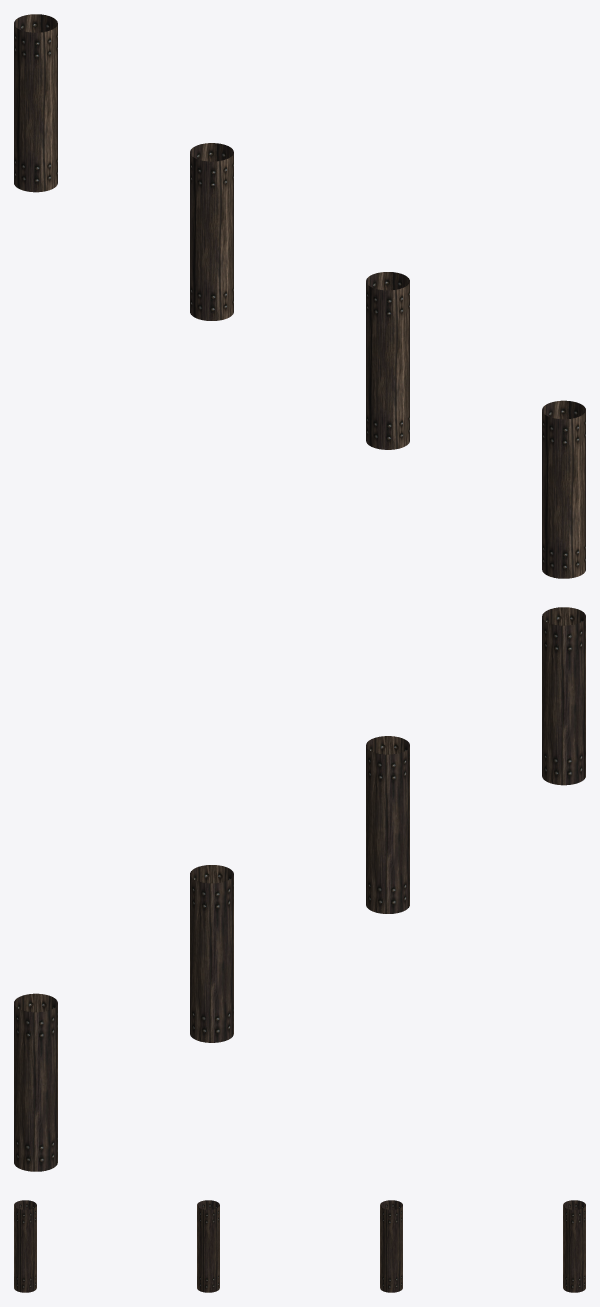
The model's file is Pillars.obj.
3 renders of one model, top to bottom at view 1: azimuth 30°, elevation 25°; view 2: azimuth 150°, elevation 25°; view 3: azimuth 270°, elevation 25°, orthographic. The views are drawn at different scales.
Parts seen in each view (by area): view 1: Cylinder.003; view 2: Cylinder.003; view 3: Cylinder.003.
Part boxes in pixels (x1=…): Cylinder.003: x1=14, y1=14, x2=585, y2=578; Cylinder.003: x1=14, y1=607, x2=585, y2=1171; Cylinder.003: x1=14, y1=1200, x2=585, y2=1292.
Bounding box in the file's own units: 0.5 × 2 × 12.5.
Materials: 1 (1 with a texture image).
